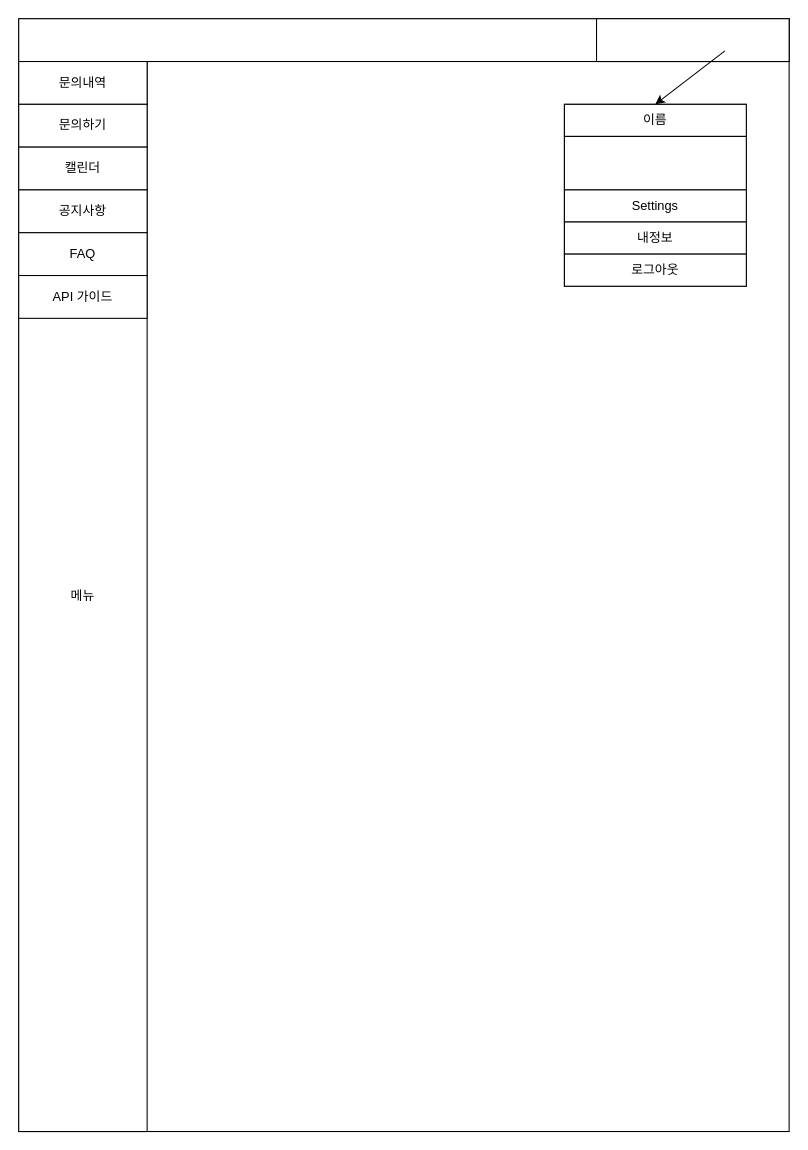
The diagram is 808 pixels wide and 1150 high, and some of its shapes have lost their labels. Here are the shapes that lost their labels. From the top down, the centre of each, then its label:
At point 692,40: "알림, 스케줄, 내정보(아바타?)".
At point 654,162: "미처리 [N건] 진행중 [M건]".
